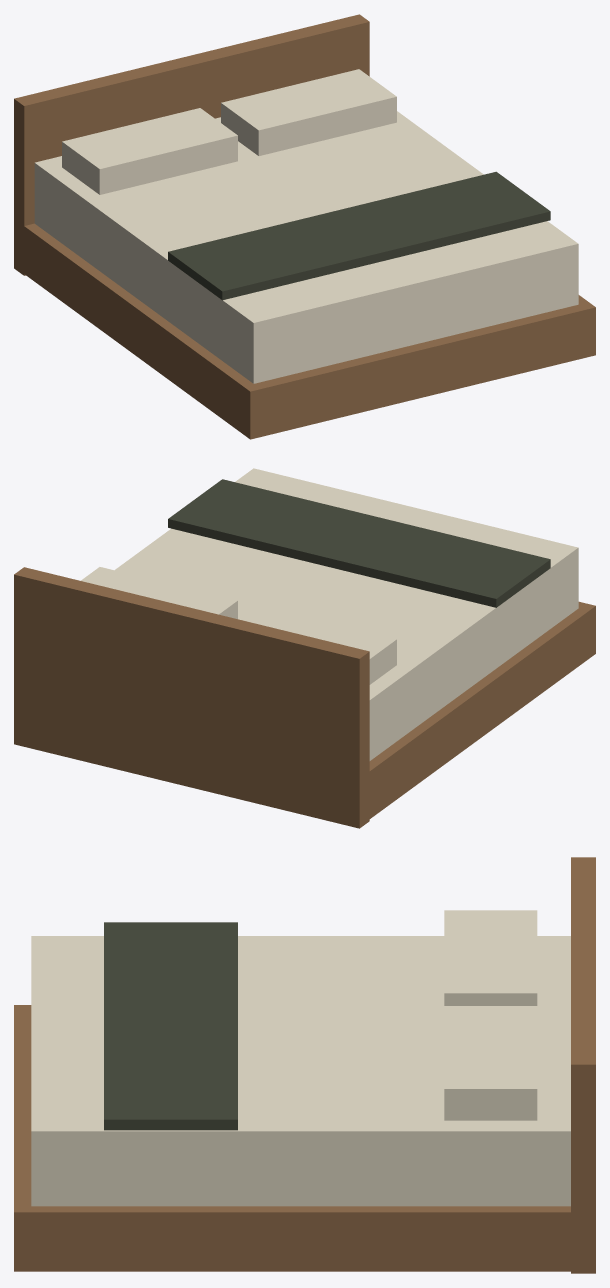
File: bed.glb
3 renders of one model, top to bottom at view 1: azimuth 30°, elevation 25°; view 2: azimuth 150°, elevation 25°; view 3: azimuth 270°, elevation 25°, orthographic. The views are drawn at different scales.
Parts seen in each view (by area): view 1: REF-L04-R01-bed-part-2, REF-L04-R01-bed-part-1, REF-L04-R01-bed-part-3, REF-L04-R01-bed-part-6, REF-L04-R01-bed-part-4, REF-L04-R01-bed-part-5; view 2: REF-L04-R01-bed-part-3, REF-L04-R01-bed-part-2, REF-L04-R01-bed-part-6, REF-L04-R01-bed-part-1, REF-L04-R01-bed-part-4, REF-L04-R01-bed-part-5; view 3: REF-L04-R01-bed-part-2, REF-L04-R01-bed-part-1, REF-L04-R01-bed-part-6, REF-L04-R01-bed-part-5, REF-L04-R01-bed-part-3, REF-L04-R01-bed-part-4.
Part boxes in pixels (left/top/right/bottom): REF-L04-R01-bed-part-2: left=34, top=111, right=578, bottom=383; REF-L04-R01-bed-part-1: left=14, top=219, right=595, bottom=439; REF-L04-R01-bed-part-3: left=14, top=14, right=369, bottom=275; REF-L04-R01-bed-part-6: left=168, top=171, right=550, bottom=300; REF-L04-R01-bed-part-4: left=62, top=108, right=237, bottom=194; REF-L04-R01-bed-part-5: left=221, top=69, right=396, bottom=155; REF-L04-R01-bed-part-3: left=14, top=567, right=369, bottom=828; REF-L04-R01-bed-part-2: left=115, top=468, right=578, bottom=760; REF-L04-R01-bed-part-6: left=168, top=479, right=550, bottom=607; REF-L04-R01-bed-part-1: left=359, top=601, right=595, bottom=825; REF-L04-R01-bed-part-4: left=240, top=605, right=396, bottom=684; REF-L04-R01-bed-part-5: left=81, top=567, right=237, bottom=619; REF-L04-R01-bed-part-2: left=31, top=936, right=570, bottom=1206; REF-L04-R01-bed-part-1: left=14, top=1005, right=595, bottom=1271; REF-L04-R01-bed-part-6: left=104, top=922, right=237, bottom=1130; REF-L04-R01-bed-part-5: left=444, top=1006, right=537, bottom=1120; REF-L04-R01-bed-part-3: left=571, top=857, right=595, bottom=1273; REF-L04-R01-bed-part-4: left=444, top=910, right=537, bottom=1005.
Bounding box in the file's own units: 0.49 × 0.23 × 0.5805.
